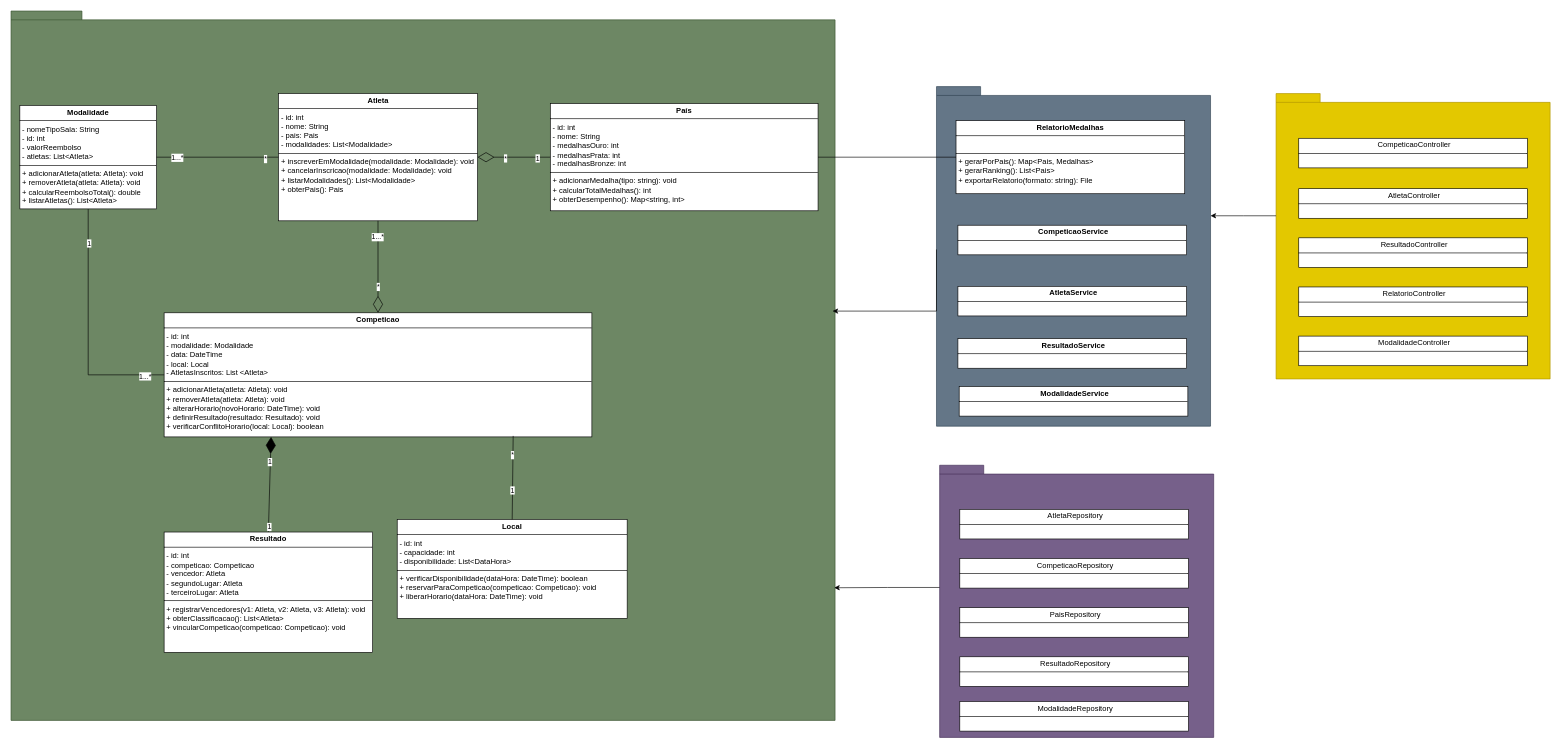
Some shapes in this 1561 by 748 pixel diagram are drawn without their labels. The shapes that lost their labels are listed below. From the top down, each one's box as (x1, y1, x2, y2) in pixels, then its label:
(936, 86, 1211, 426): br.edu.sgo.service
(1275, 93, 1550, 379): br.edu.sgo.controller
(10, 10, 835, 720): br.edu.sgo.model
(939, 465, 1214, 737): br.edu.sgo.repository
